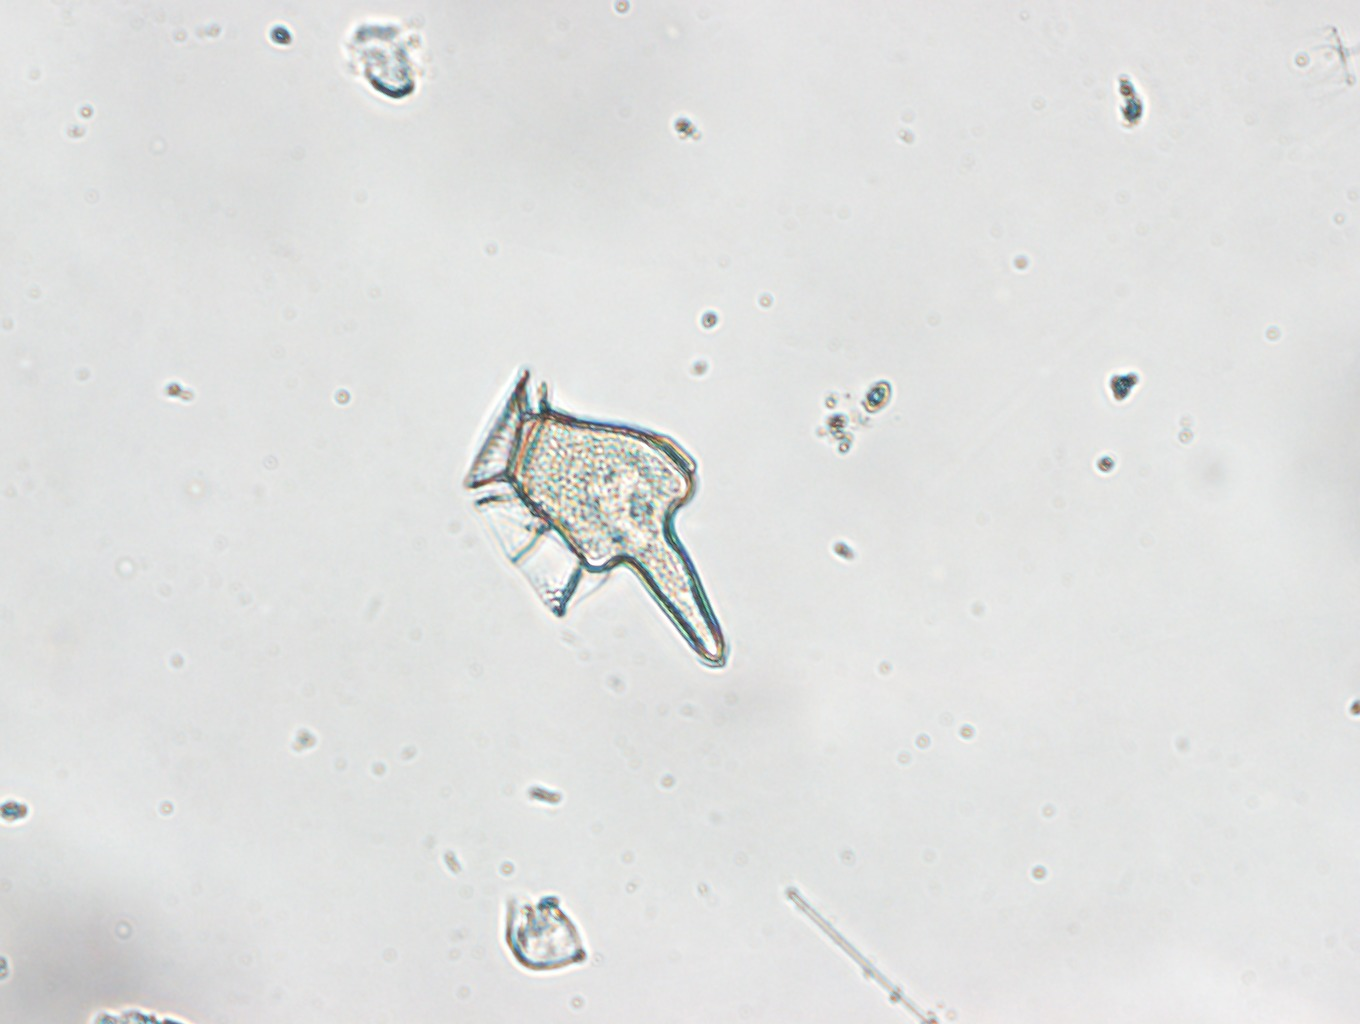dinophysis caudata: (460, 366, 727, 669)
